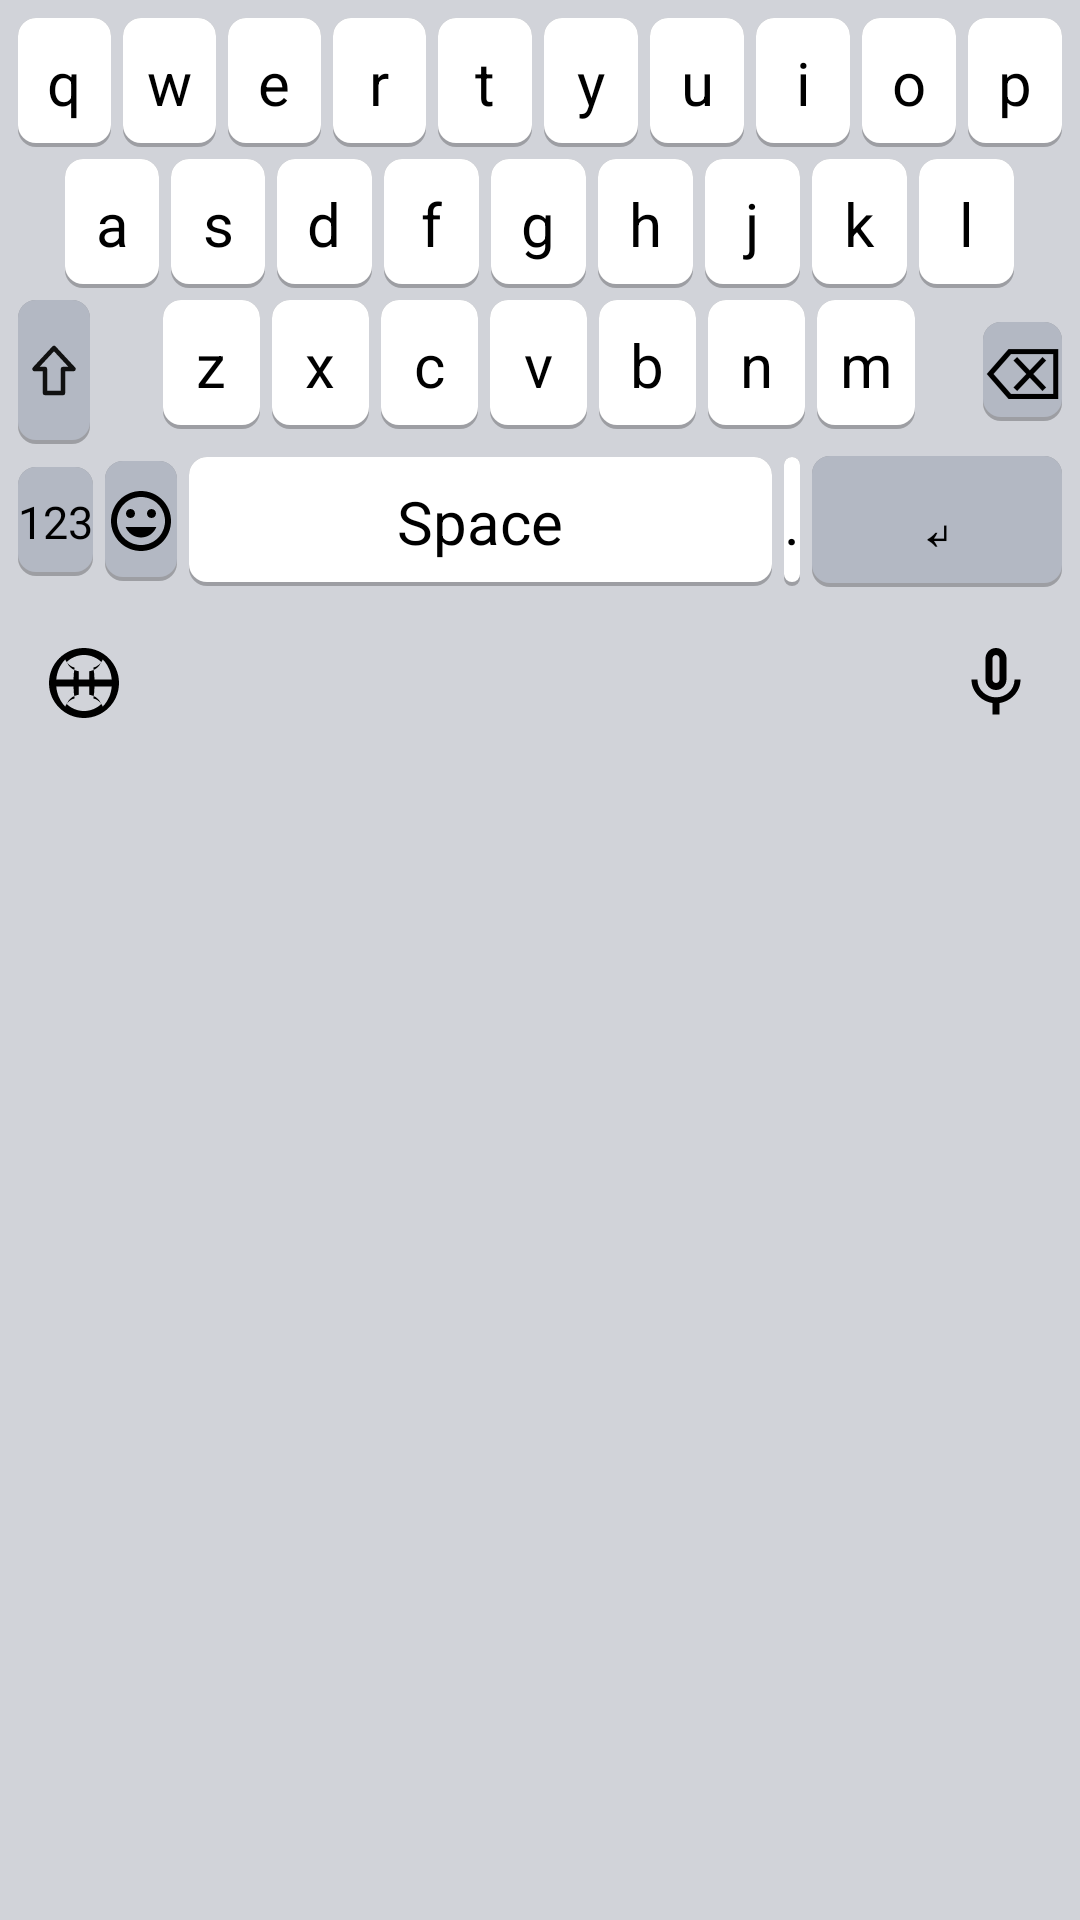

Screen size 1080×1920. Icon name, then its center in pixels as (x,y):
emoji: (141,521)
globe: (84,683)
mic: (996,681)
shift: (54,372)
